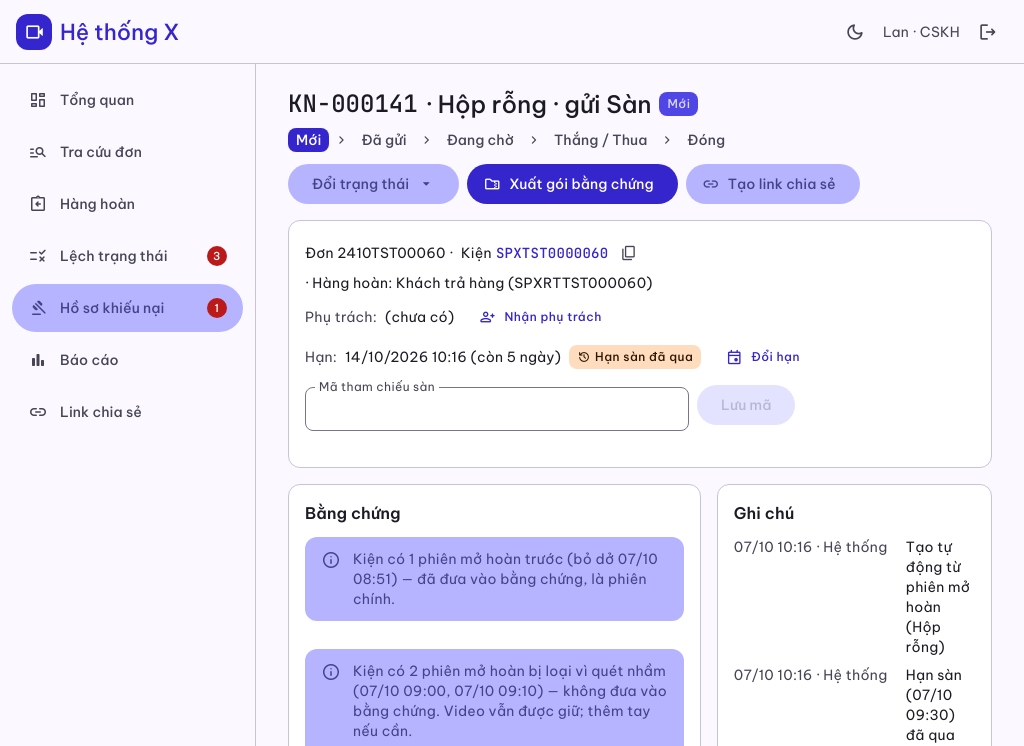
Test: lỗi tải lên → Alert + Thử lại → tạo lại thành công
The width and height of the screenshot is (1024, 746).
Click the button "Tạo link chia sẻ" at (773, 184), box [686,164,860,204]
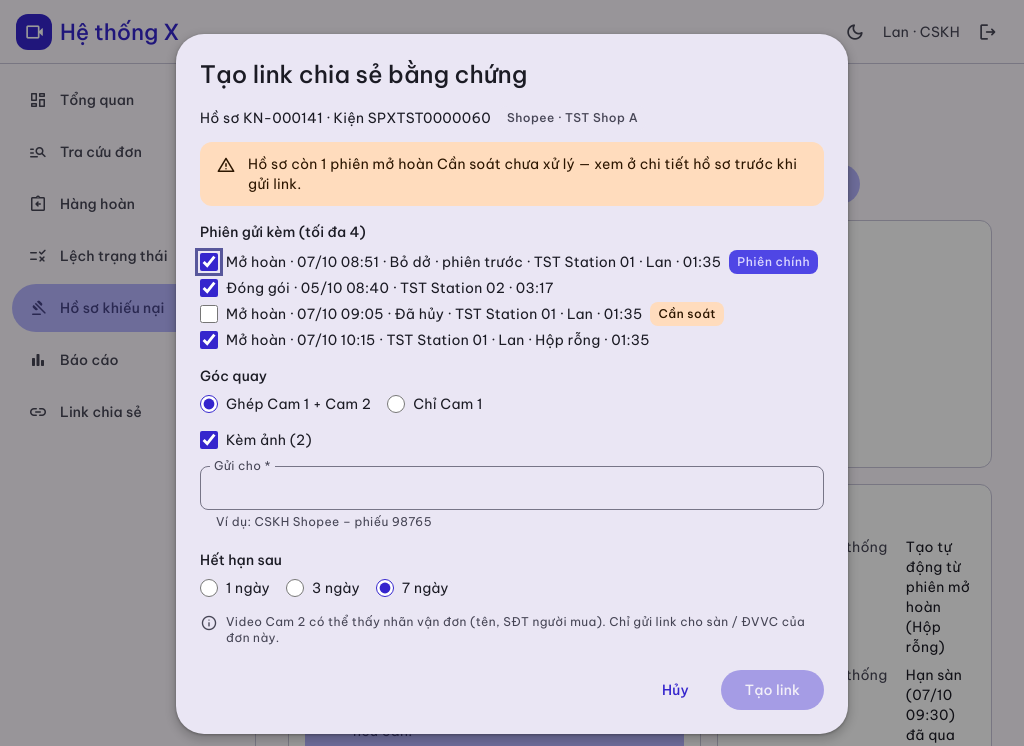
Expected: the text "Phiên gửi kèm (tối đa 4)" is shown, [200,222,366,242]
Type "ĐVVC SPX" into the field labelled "Gửi cho *" at (512, 488), box [200,466,824,510]
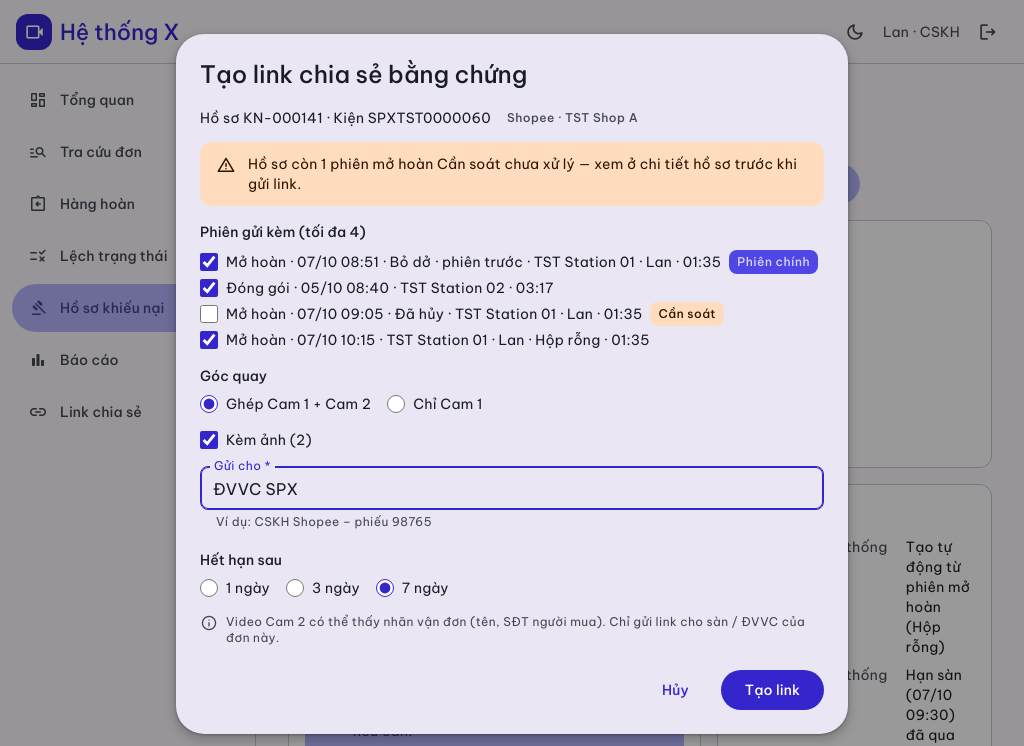
Click the button "Tạo link" at (772, 690), box [721,670,824,710]
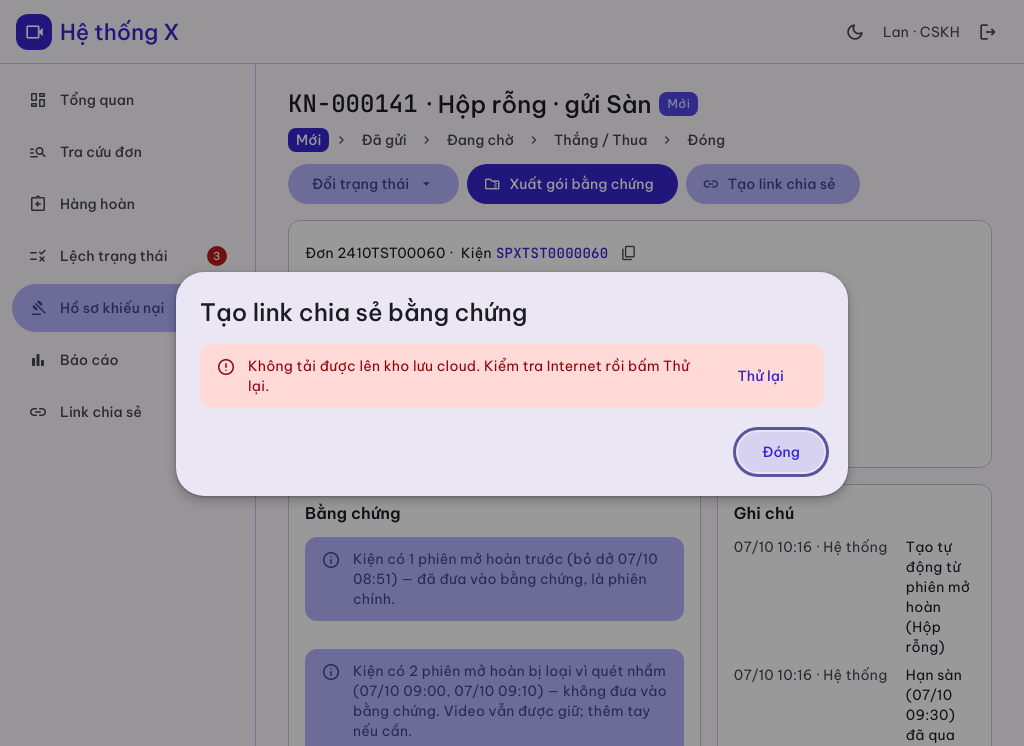
Expected: the text "Không tải được lên kho lưu cloud. Kiểm tra Internet rồi bấm Thử lại." is shown, [248,356,702,396]
Click the button "Thử lại" at (761, 376), box [714,356,808,396]
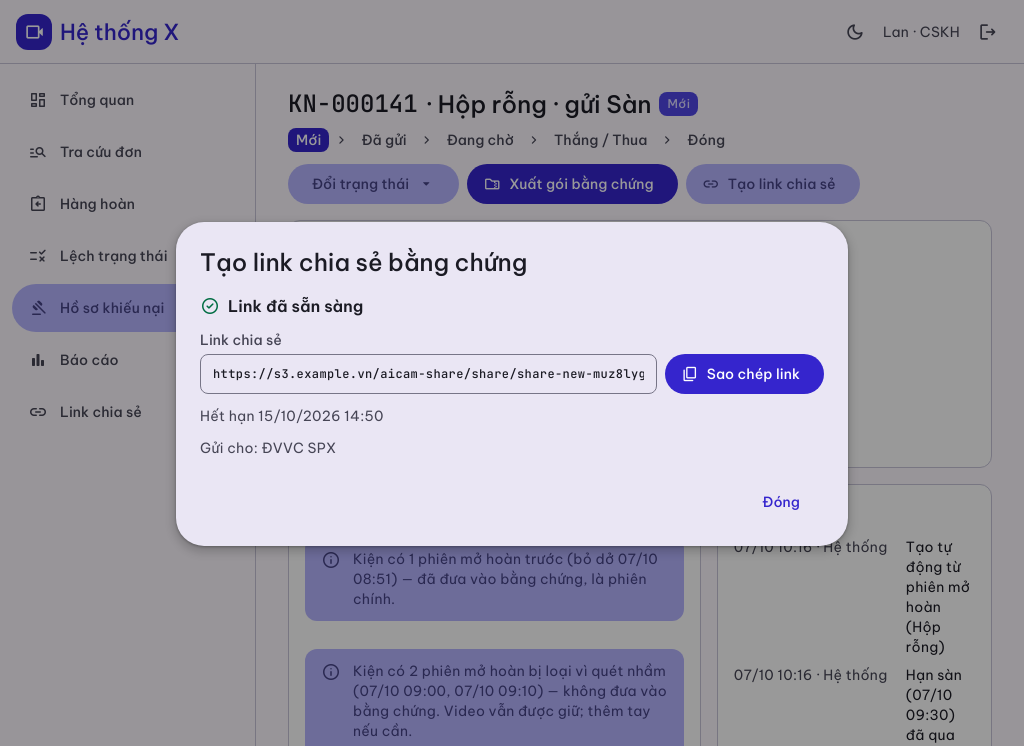
Expected: the text "Link đã sẵn sàng" is shown, [200,294,364,318]
